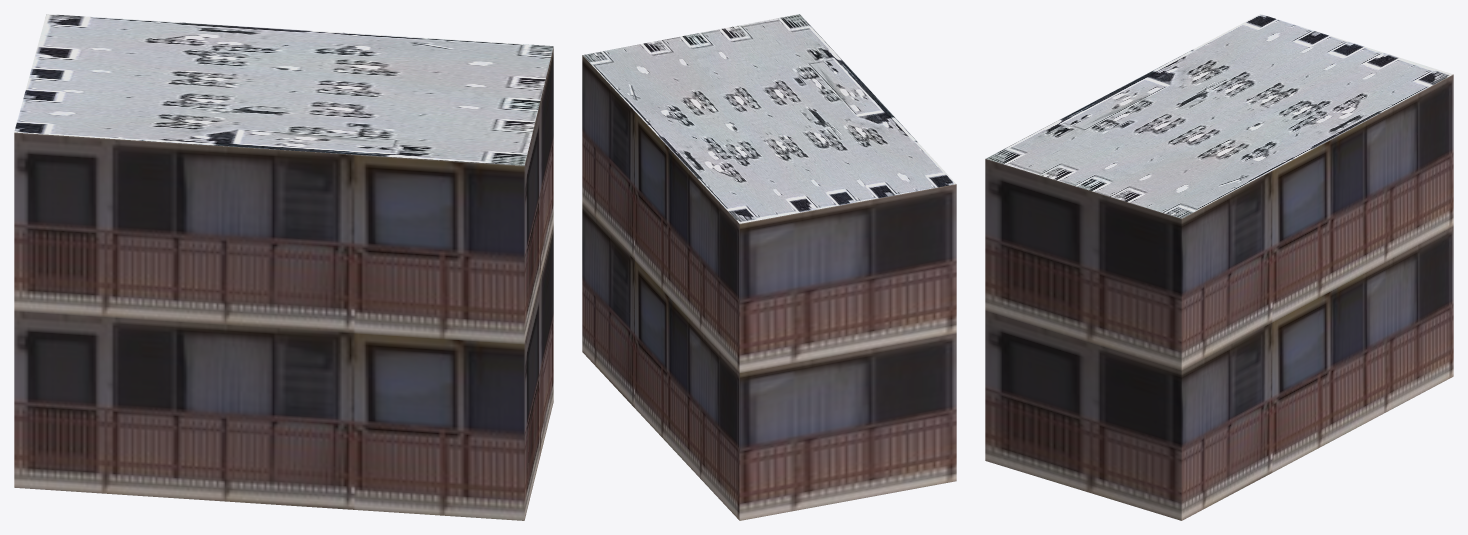
The model's file is ResTex__2909.fbx.
3 renders of one model, left to right at view 1: azimuth 30°, elevation 25°; view 2: azimuth 150°, elevation 25°; view 3: azimuth 270°, elevation 25°, orthographic. The views are drawn at different scales.
Parts seen in each view (by area): view 1: CityEngineMaterial_6_m, CityEngineMaterial_8_m; view 2: CityEngineMaterial_6_m, CityEngineMaterial_8_m; view 3: CityEngineMaterial_6_m, CityEngineMaterial_8_m.
Boxes of the visible parts, box(x1,y1,x2,y2) form: CityEngineMaterial_6_m: box(14, 47, 553, 520); CityEngineMaterial_8_m: box(14, 14, 553, 165); CityEngineMaterial_6_m: box(582, 55, 956, 520); CityEngineMaterial_8_m: box(583, 14, 955, 223); CityEngineMaterial_6_m: box(985, 74, 1453, 520); CityEngineMaterial_8_m: box(986, 14, 1452, 218).
Bounding box in the file's own units: 8.72 × 6 × 8.42.
Materials: 2 (2 with a texture image).
